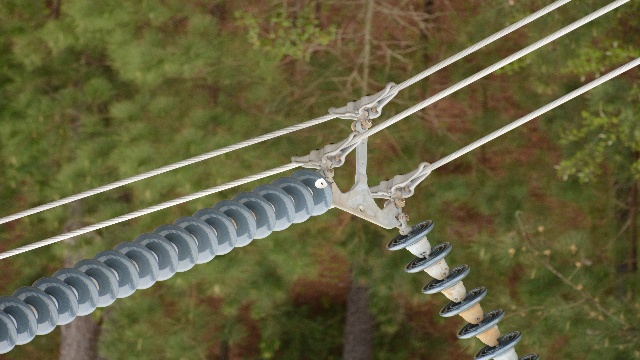broken_local: (313, 175, 328, 189)
insulator_unspecified: (0, 170, 334, 353), (388, 218, 541, 359)
